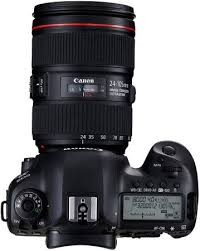camera: (5, 5, 197, 236)
